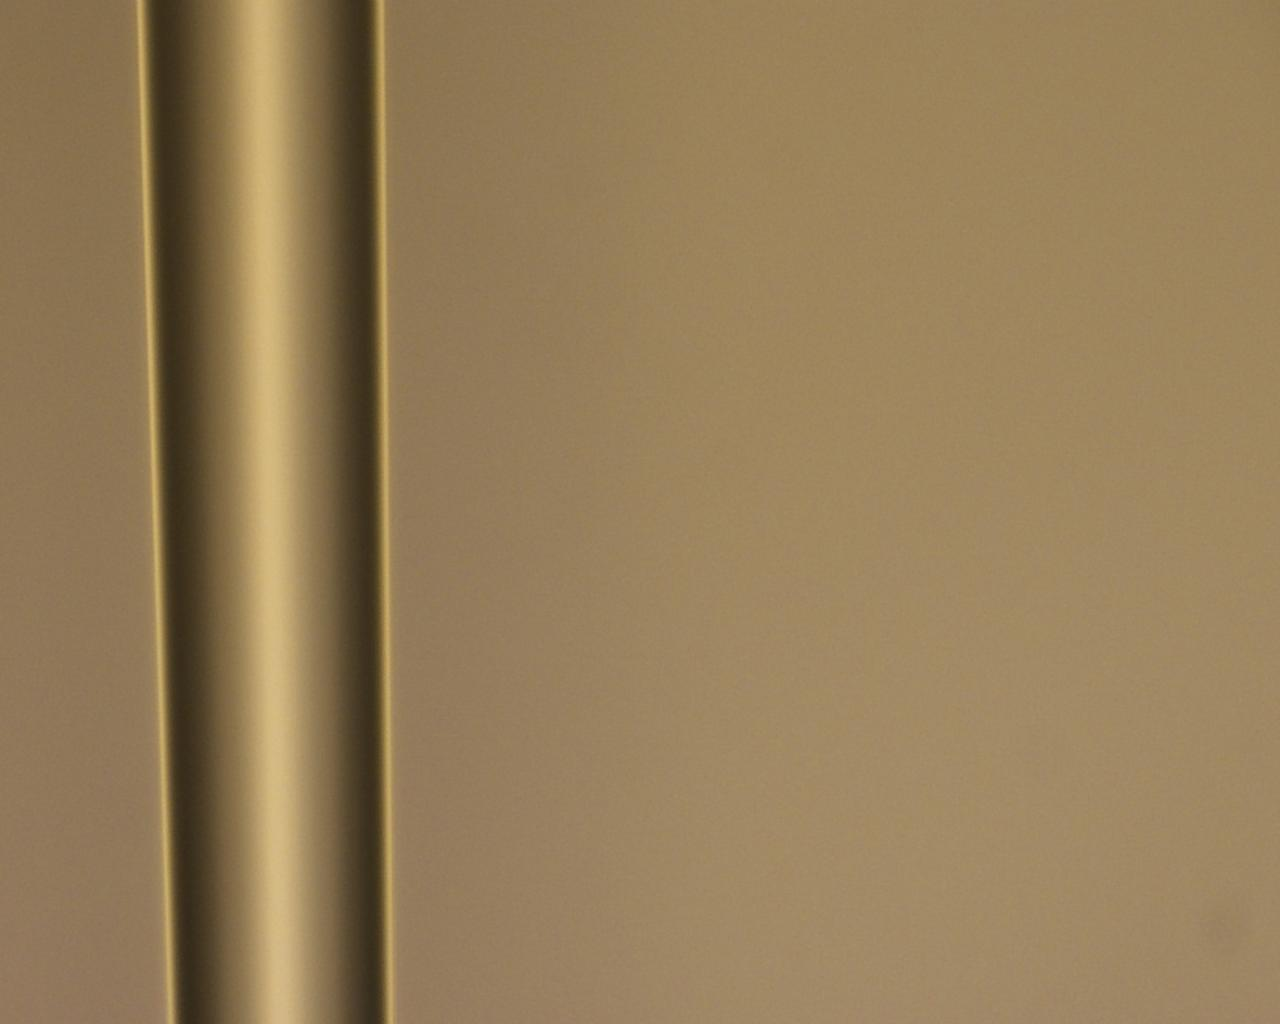fiber: (0, 88, 435, 322), (911, 0, 1280, 165), (0, 548, 435, 621), (435, 898, 1280, 921)
